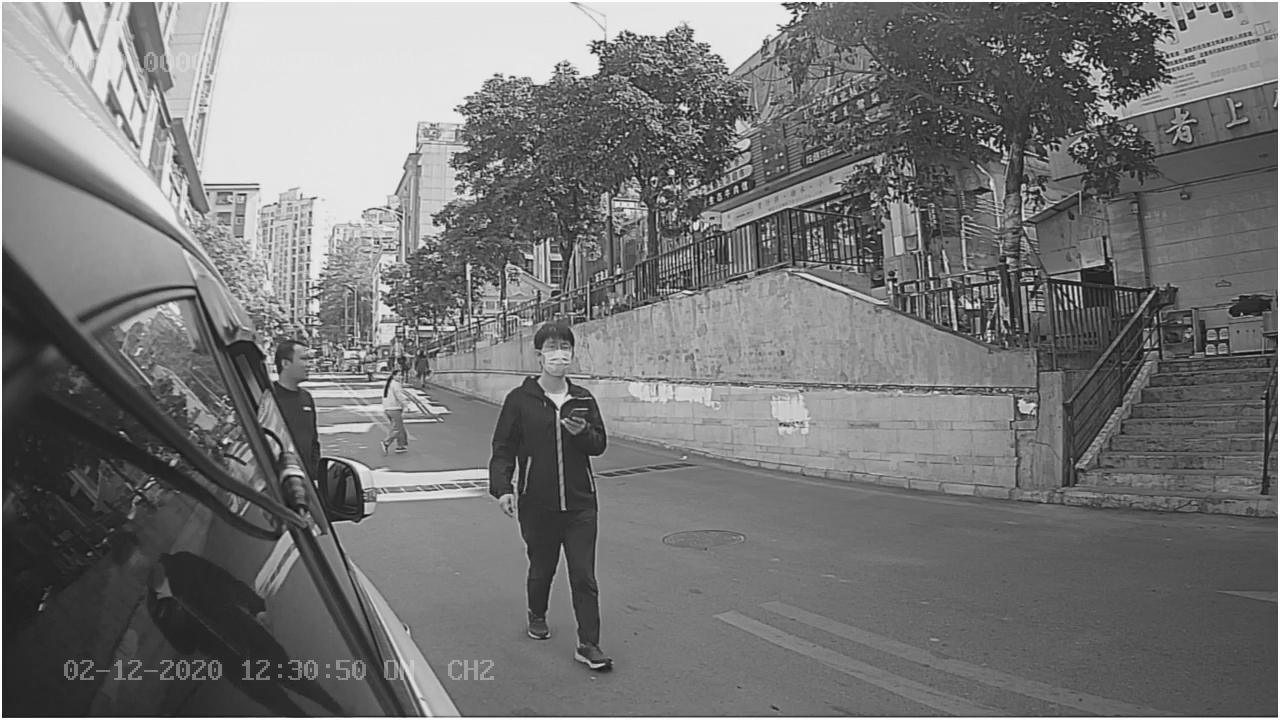person: (485, 322, 636, 669)
